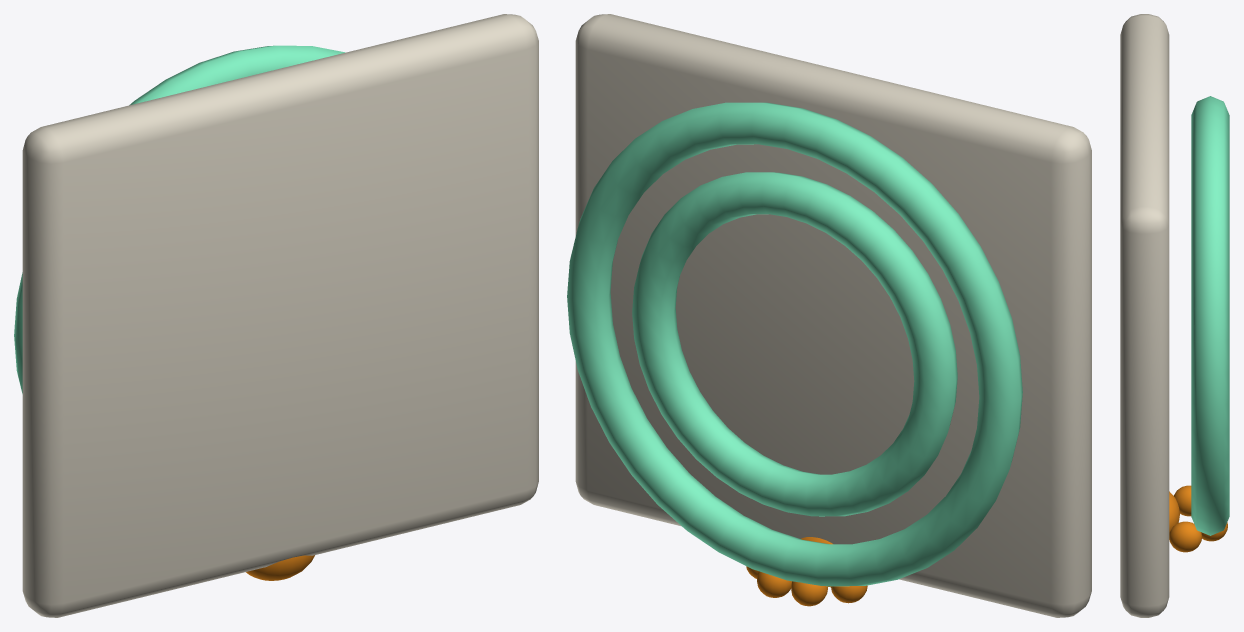
Rendered from ClassicCollar_Premium.fbx.
3 renders of one model, left to right at view 1: azimuth 30°, elevation 25°; view 2: azimuth 150°, elevation 25°; view 3: azimuth 270°, elevation 25°, orthographic. The views are drawn at different scales.
Parts seen in each view (by area): view 1: ClassicCollar_Body; view 2: ClassicCollar_Body; view 3: ClassicCollar_Body.
Part boxes in pixels (x1,y1,x2,y2): ClassicCollar_Body: (14,14,538,617); ClassicCollar_Body: (567,14,1091,617); ClassicCollar_Body: (1120,14,1229,617).
Size of the model in its own units: 0.4451 by 0.4268 by 0.0985.
